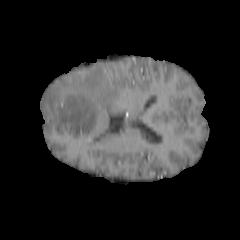glioma: (41, 65, 121, 137)
